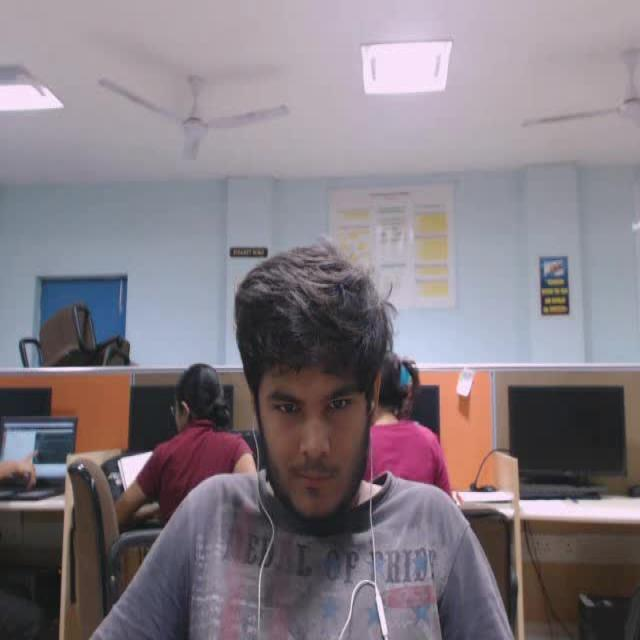Engaged: (201, 234, 422, 565)
